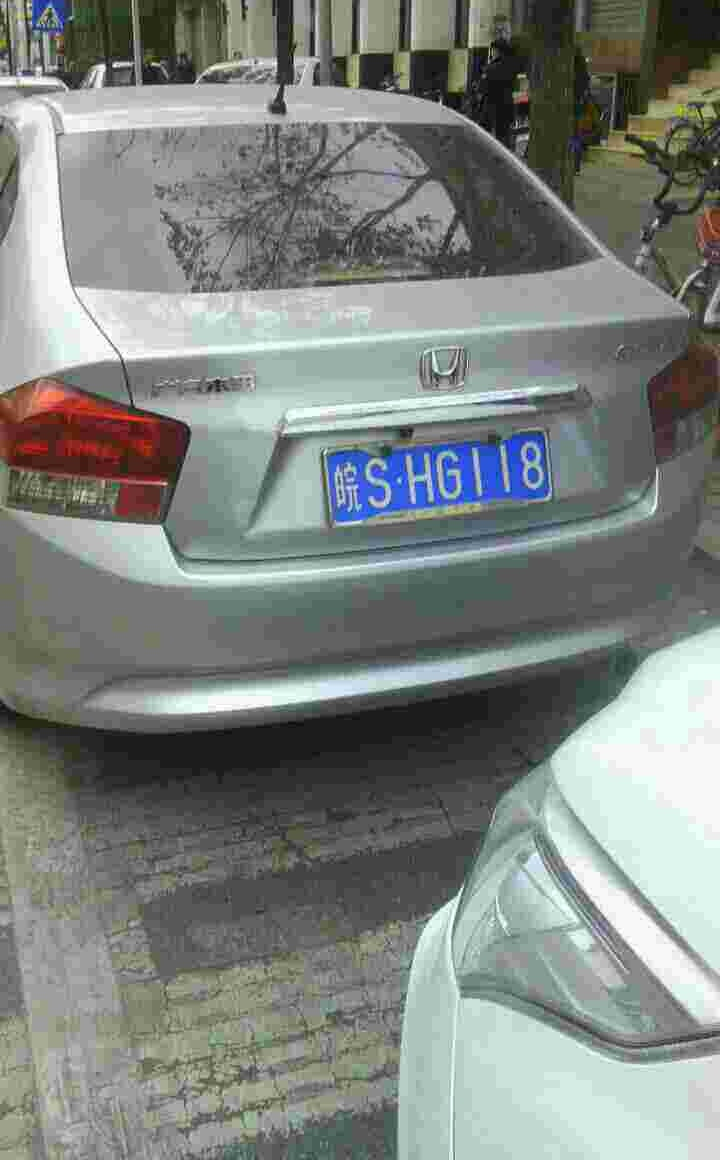license_plate: (327, 438, 543, 528)
